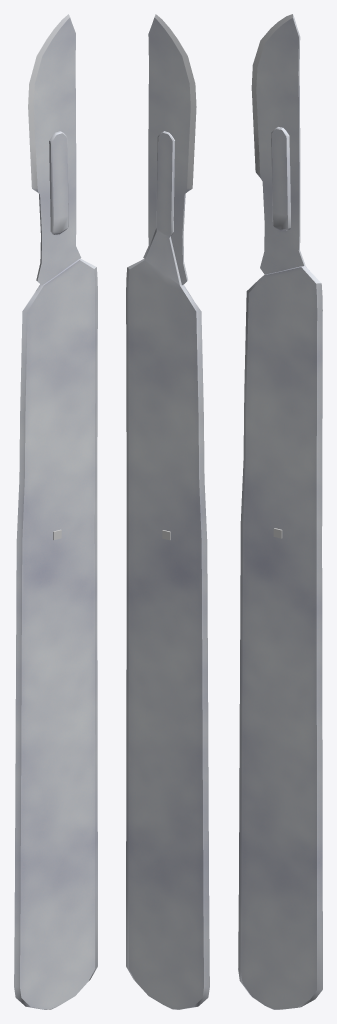
Rendered from Scalpel.glb.
3 renders of one model, left to right at view 1: azimuth 30°, elevation 25°; view 2: azimuth 150°, elevation 25°; view 3: azimuth 330°, elevation 25°, orthographic.
Visible parts, largest first — view 1: object 3, 10_Scalp_0; view 2: object 3, 10_Scalp_0; view 3: object 3, 10_Scalp_0.
Boxes of the visible parts, x1,y1,x2,y2 form: object 3: [14, 131, 97, 1009]; 10_Scalp_0: [28, 14, 81, 285]; object 3: [126, 131, 209, 1009]; 10_Scalp_0: [143, 14, 196, 285]; object 3: [238, 127, 322, 1009]; 10_Scalp_0: [251, 14, 305, 274].
Bounding box in the file's own units: 21.37 × 241 × 2.12.
Materials: 2 (1 with a texture image).
